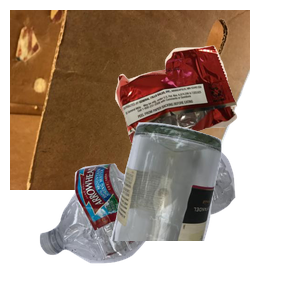cardboard: (10, 10, 250, 190)
glass: (109, 120, 300, 300)
plastic: (37, 144, 265, 300)
trash: (113, 43, 300, 181)
